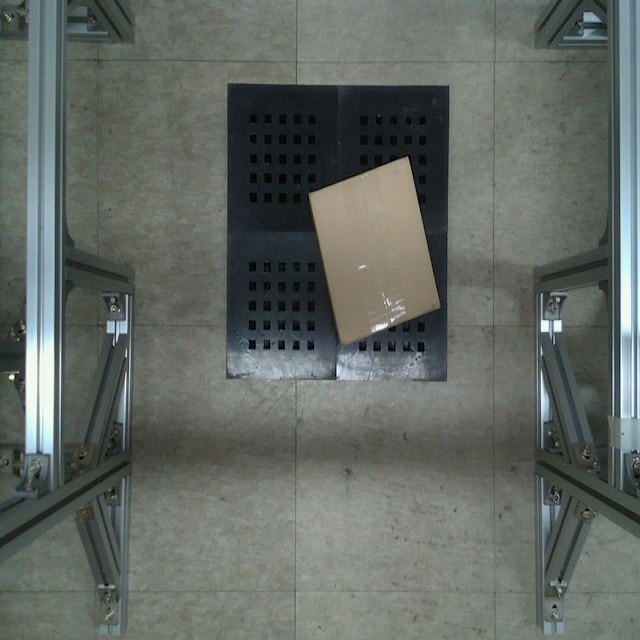box: (308, 155, 444, 348)
pallet: (225, 79, 448, 383)
